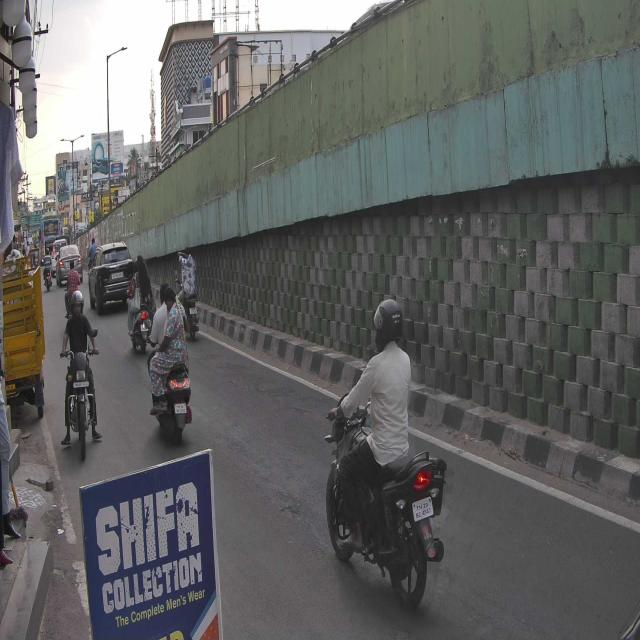single_rider: (325, 299, 448, 608)
